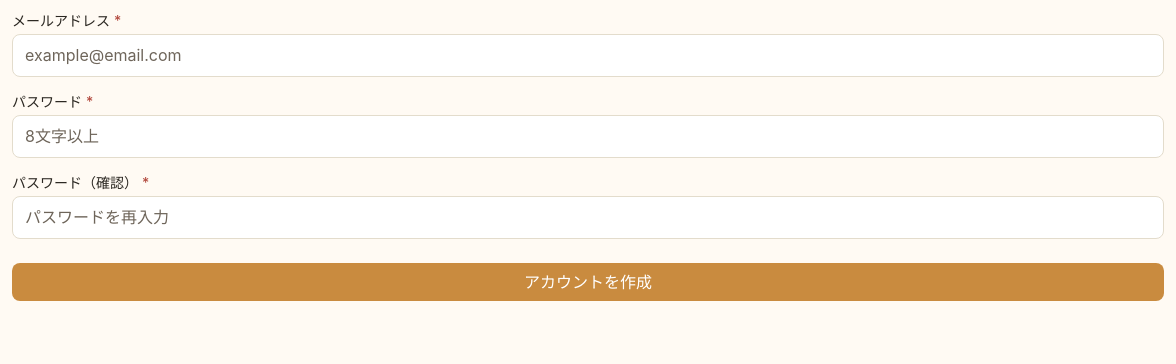
Test: SignupForm › バリデーション › パスワードと確認用パスワードが不一致のときエラーが表示される
The width and height of the screenshot is (1176, 364).
Type "test@example.com" into the field labelled "メールアドレス*".
click(588, 55); type("test@example.com")  # box x1=13 y1=34 x2=1163 y2=76
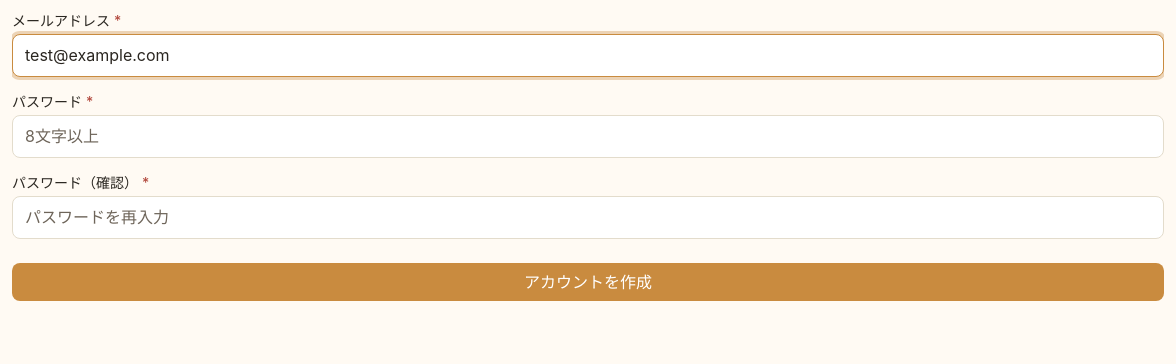
Type "password123" into the password field named "password".
click(588, 136); type("password123")  # box x1=13 y1=116 x2=1163 y2=157
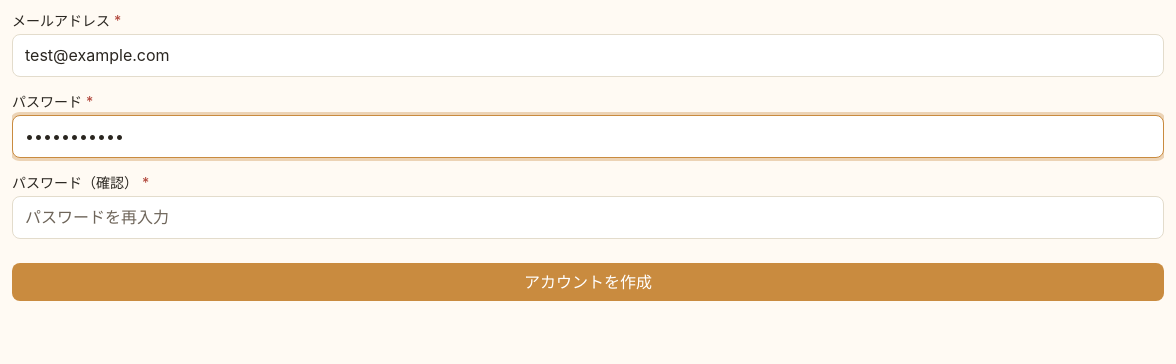
Type "different123" into the password field labelled "パスワード（確認）*".
click(588, 218); type("different123")  # box x1=13 y1=197 x2=1163 y2=238
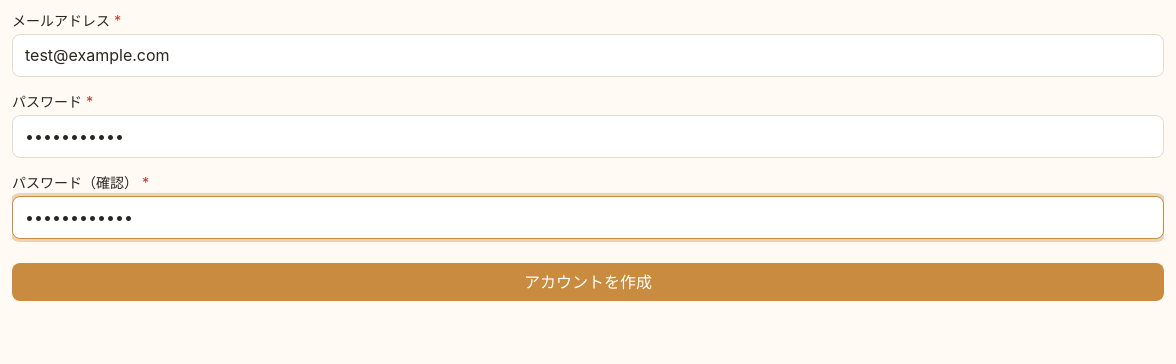
Click the button "アカウントを作成".
click(588, 282)  # box x1=12 y1=263 x2=1164 y2=301
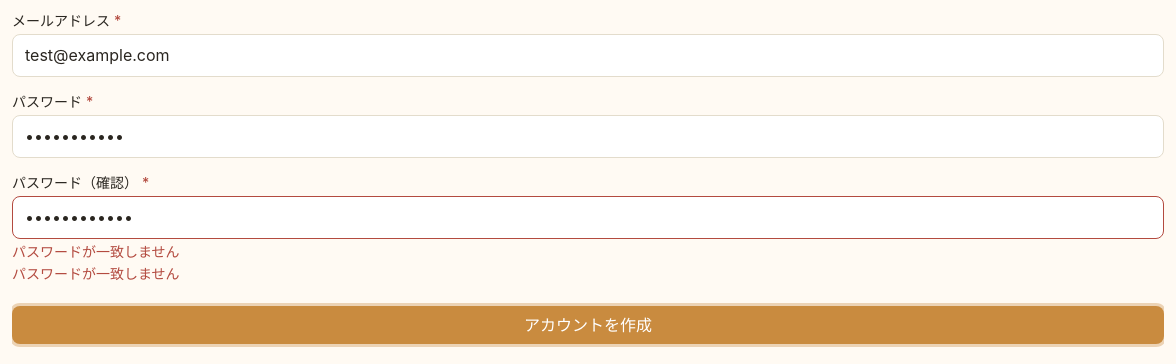
Now the 1st text "パスワードが一致しません" is shown, box x1=12 y1=243 x2=180 y2=260
